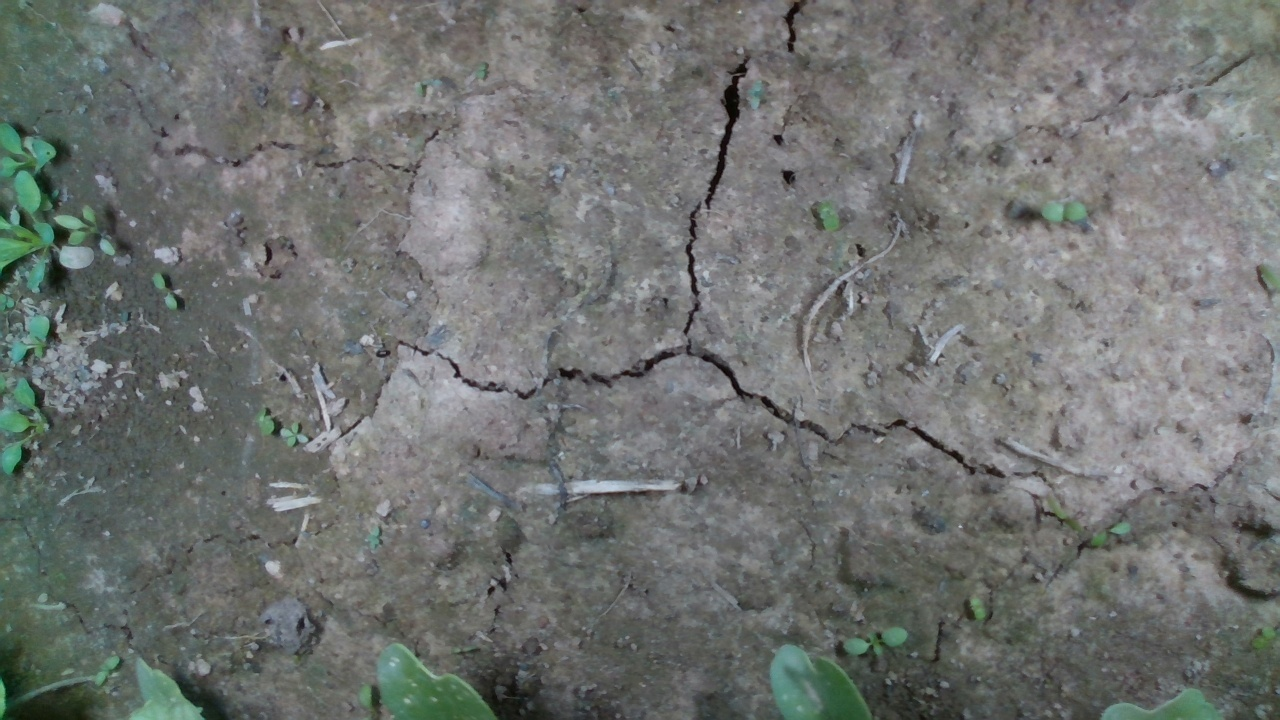weed: (838, 627, 908, 655), (1035, 195, 1090, 228), (148, 273, 180, 311), (279, 419, 316, 450)
